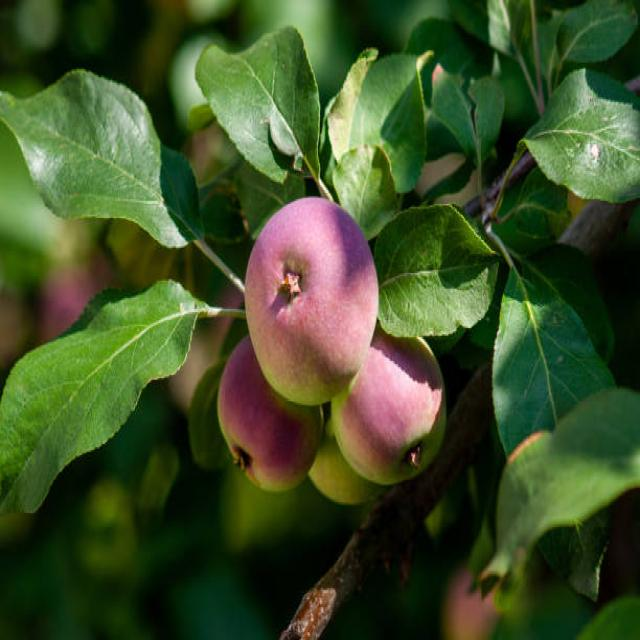Unripe: (242, 189, 378, 404)
